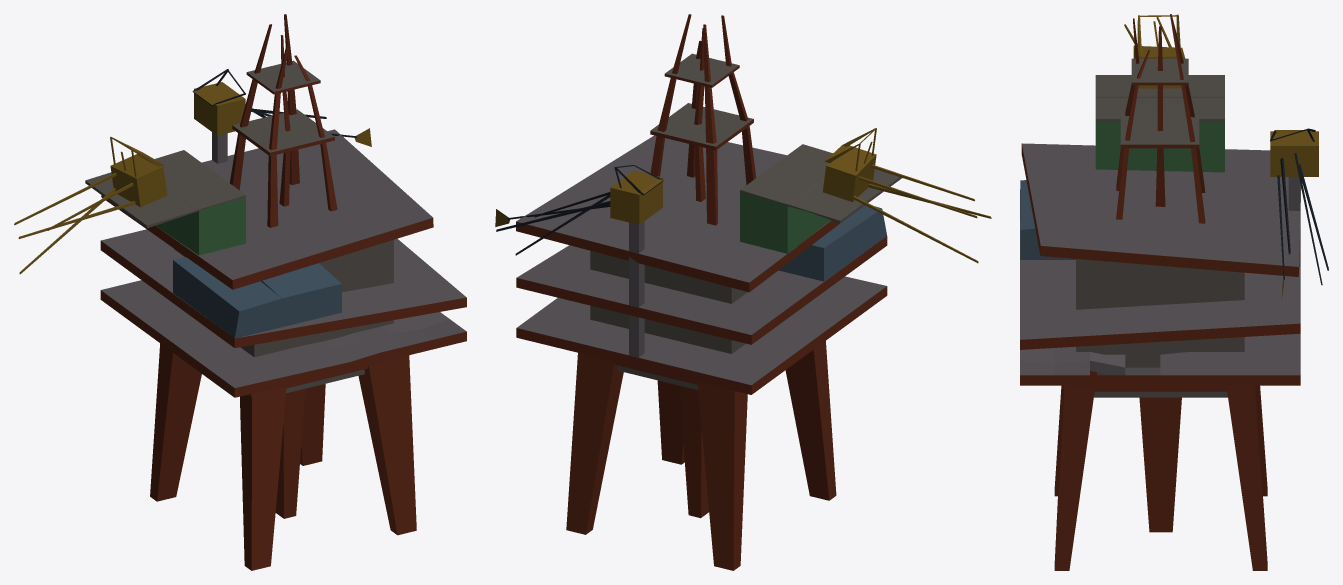
The model's file is DmgOil platform.fbx.
3 views of the same model, side by side, from view 1: azimuth 30°, elevation 25°; view 2: azimuth 150°, elevation 25°; view 3: azimuth 270°, elevation 25° (orthographic). The views are drawn at different scales.
Visible parts, largest first — view 1: Cube, Cube.003, crane.001, crane; view 2: Cube, Cube.003, crane, crane.001; view 3: Cube, Cube.003, crane, crane.001.
Part boxes in pixels (box(x1,y1,x2,y2)): Cube: box(85, 129, 466, 397); Cube.003: box(150, 14, 416, 570); crane.001: box(14, 137, 167, 274); crane: box(192, 69, 371, 163); Cube: box(516, 135, 901, 394); Cube.003: box(566, 14, 836, 570); crane: box(495, 165, 663, 357); crane.001: box(822, 128, 991, 263); Cube: box(1020, 75, 1301, 397); Cube.003: box(1054, 14, 1267, 570); crane: box(1270, 128, 1328, 299); crane.001: box(1124, 14, 1185, 88).
Size of the model in its own units: 1795 by 2010 by 1088.
